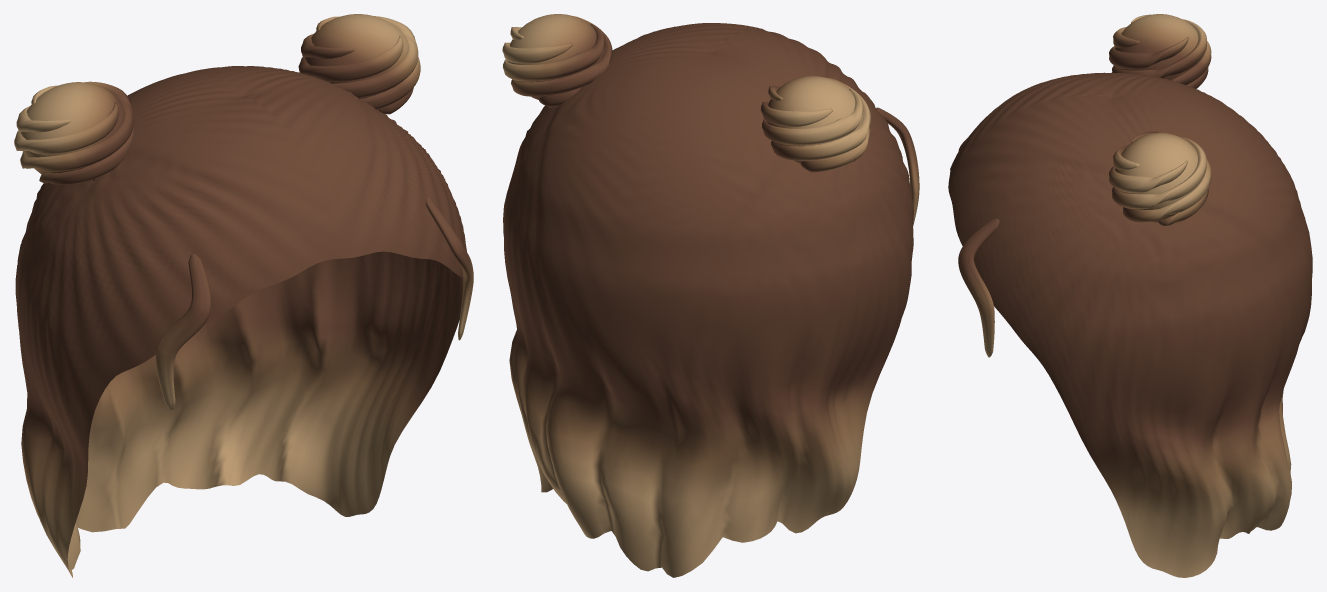
File: space-buns-ears-ombre.glb
The picture shows the model from 3 angles, left to right: view 1: azimuth 30°, elevation 25°; view 2: azimuth 150°, elevation 25°; view 3: azimuth 270°, elevation 25°; orthographic projection. The views are drawn at different scales.
Parts seen in each view (by area): view 1: 226 hair / Hair / chestnut226.001; view 2: 226 hair / Hair / chestnut226.001; view 3: 226 hair / Hair / chestnut226.001.
Boxes of the visible parts, x1,y1,x2,y2 form: 226 hair / Hair / chestnut226.001: (14, 14, 473, 577); 226 hair / Hair / chestnut226.001: (502, 14, 919, 577); 226 hair / Hair / chestnut226.001: (948, 14, 1312, 577).
Bounding box in the file's own units: 0.8048 × 1 × 0.7316.
1 material, 1 textured.
